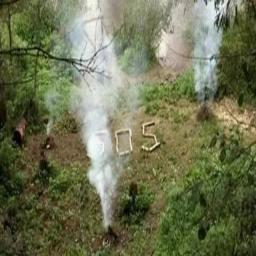Low smoke: (88, 11, 124, 234), (186, 3, 222, 105)
